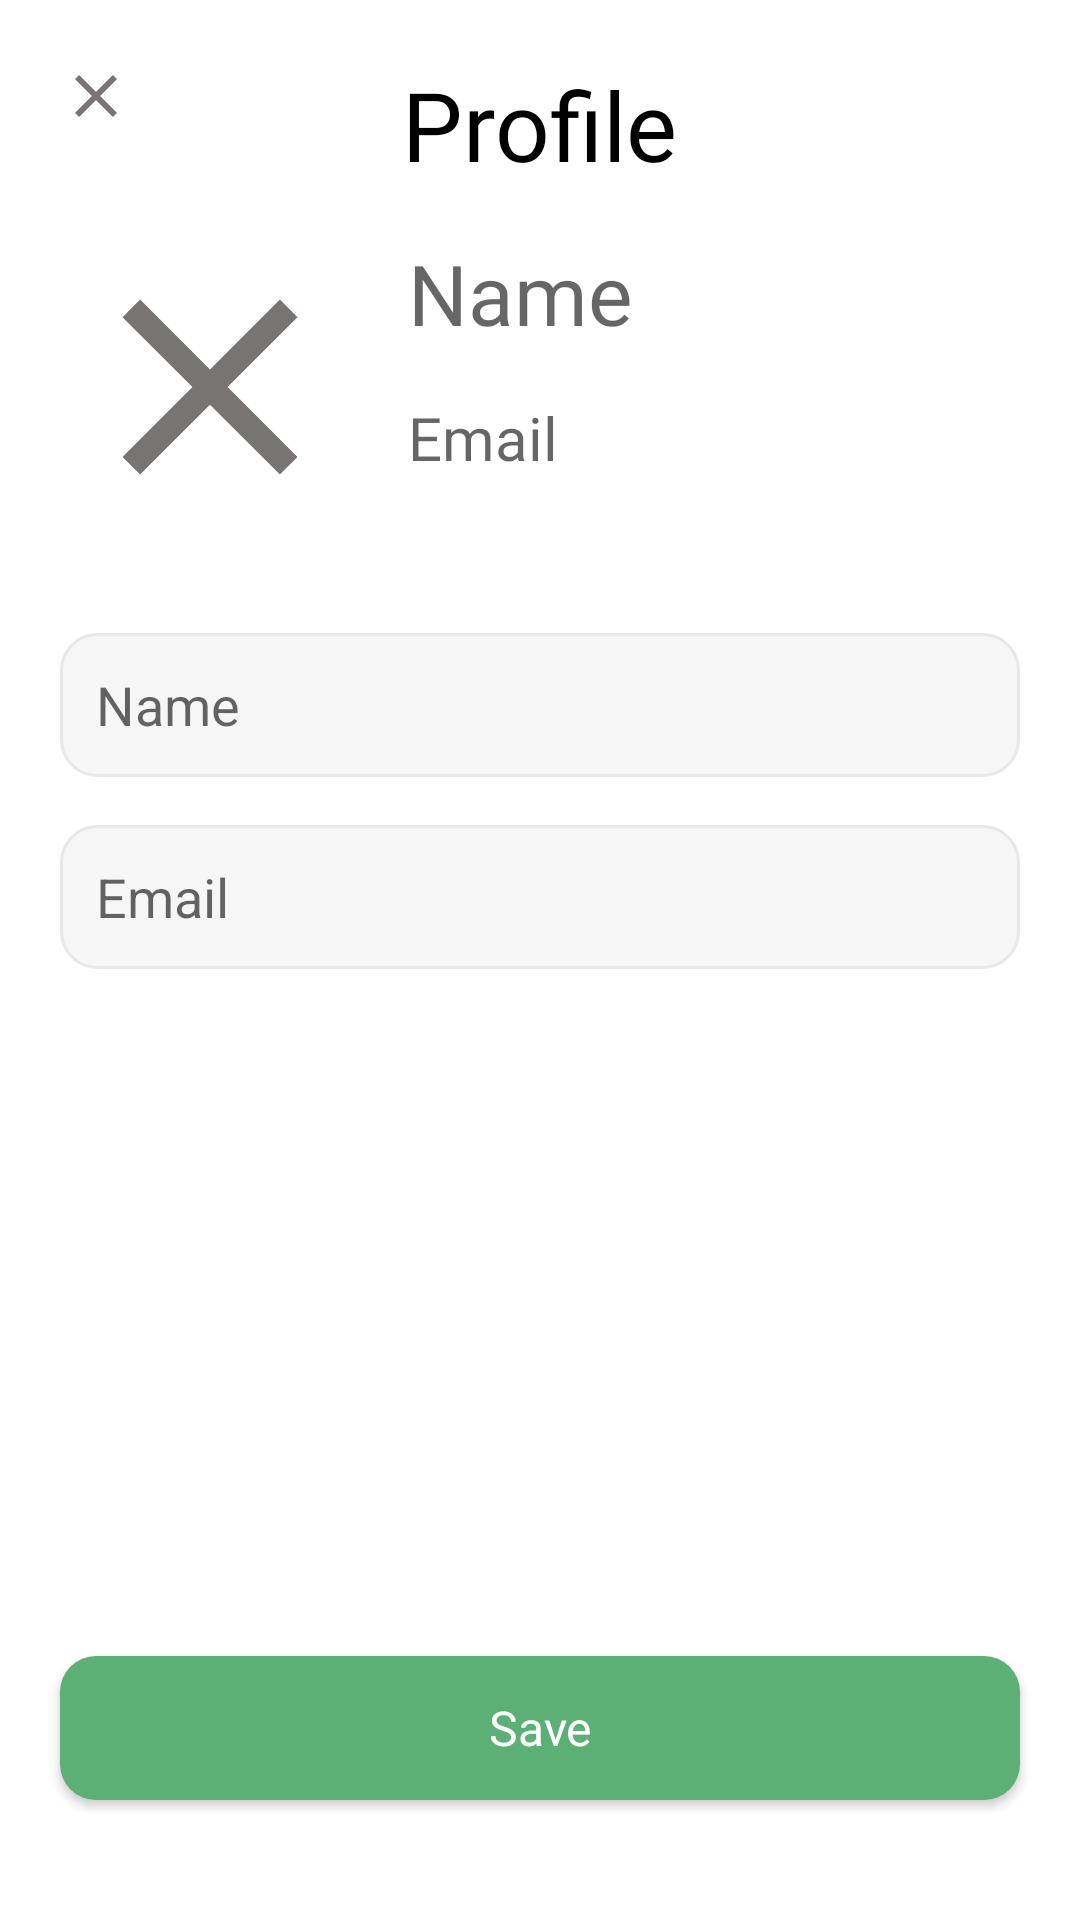

Icons on this 1080w x 1920h Android screen, each with its box as (x1, y1, x2, y2):
close: (75, 75, 117, 117), (122, 299, 298, 475)
